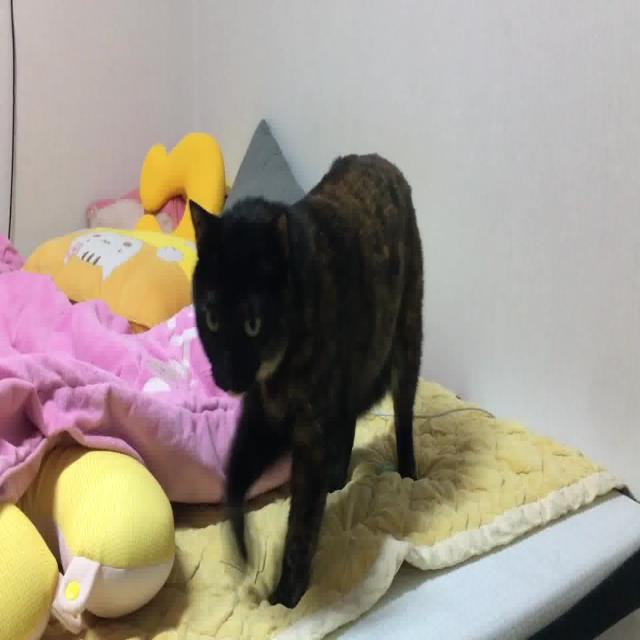cat: (186, 140, 436, 612)
